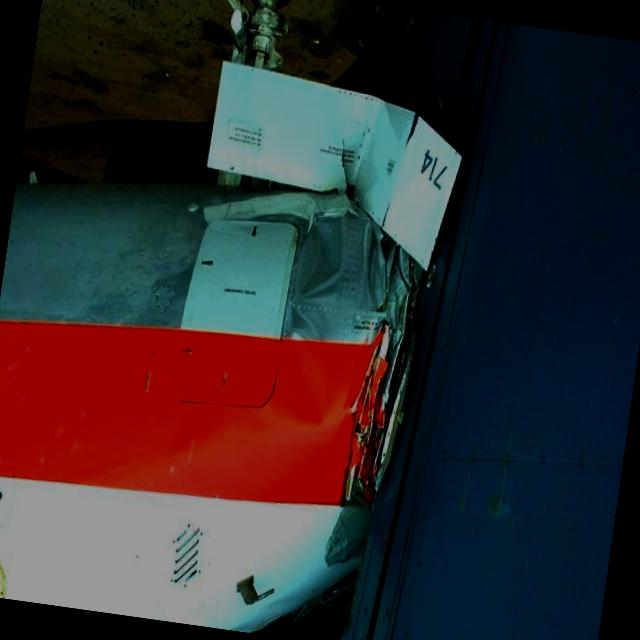dent: (268, 215, 354, 428)
